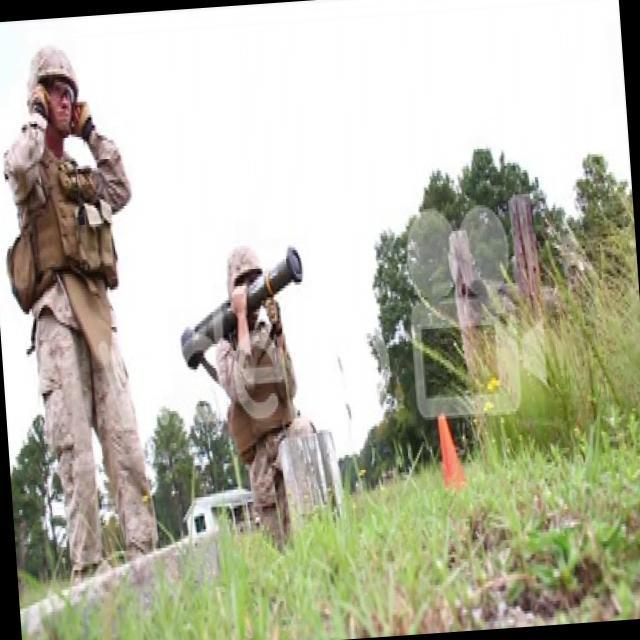rocket: (173, 242, 310, 372)
